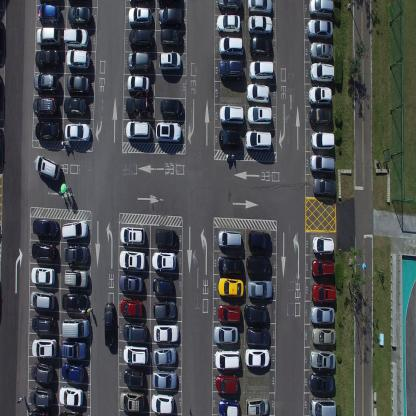car: (34, 154, 61, 183), (61, 218, 89, 241), (119, 248, 146, 271), (119, 390, 146, 413), (245, 129, 272, 152), (61, 317, 90, 338), (30, 360, 54, 385), (309, 372, 335, 395), (125, 119, 151, 142), (155, 119, 181, 142), (309, 348, 336, 370), (62, 26, 89, 48), (64, 122, 92, 143), (61, 291, 89, 312), (306, 18, 334, 39), (37, 2, 61, 26), (33, 95, 58, 118), (35, 120, 61, 142), (122, 321, 148, 343), (218, 104, 244, 126), (218, 276, 244, 298), (122, 344, 148, 366), (58, 385, 84, 407), (32, 217, 58, 239), (218, 59, 244, 81), (218, 35, 244, 57), (214, 372, 238, 395), (150, 392, 174, 415), (104, 301, 116, 347), (249, 36, 273, 59), (119, 272, 144, 294), (248, 278, 273, 300), (245, 82, 270, 104), (36, 26, 61, 48), (312, 176, 337, 198), (311, 282, 336, 304), (153, 323, 179, 344), (61, 339, 87, 360), (30, 290, 56, 311), (30, 265, 56, 286), (33, 72, 59, 93), (309, 63, 335, 84), (309, 153, 335, 174), (154, 228, 178, 250), (152, 250, 176, 272), (217, 302, 241, 324), (244, 304, 268, 326), (218, 128, 242, 150), (61, 361, 85, 383), (31, 313, 55, 335), (31, 241, 55, 263), (63, 96, 87, 118), (66, 48, 90, 70), (128, 6, 152, 28), (127, 51, 151, 73), (309, 40, 333, 62), (308, 84, 332, 106), (308, 106, 332, 128), (311, 258, 335, 280), (245, 347, 270, 368), (120, 225, 145, 246), (152, 369, 177, 390), (246, 254, 271, 275), (29, 386, 54, 407), (63, 245, 88, 266), (247, 105, 272, 126), (249, 60, 274, 81), (35, 49, 60, 70), (128, 29, 153, 50), (310, 130, 335, 151), (311, 325, 336, 346), (217, 228, 242, 249), (214, 350, 240, 370), (31, 338, 57, 358), (217, 256, 243, 276), (248, 230, 271, 252), (160, 27, 183, 49), (66, 74, 89, 96), (160, 98, 184, 119), (248, 14, 272, 35), (217, 13, 241, 34), (67, 5, 91, 26), (213, 324, 238, 344), (125, 96, 150, 116), (63, 268, 88, 288), (310, 397, 337, 415), (308, 0, 335, 18), (123, 367, 145, 389), (311, 235, 334, 256), (153, 346, 177, 366), (127, 74, 151, 94), (158, 6, 182, 26), (120, 298, 143, 318), (245, 396, 269, 415), (152, 300, 176, 319), (310, 306, 335, 324), (152, 276, 174, 296), (158, 51, 181, 70), (246, 0, 273, 15), (218, 397, 240, 415), (217, 0, 241, 14), (58, 408, 82, 416), (28, 408, 52, 415)
